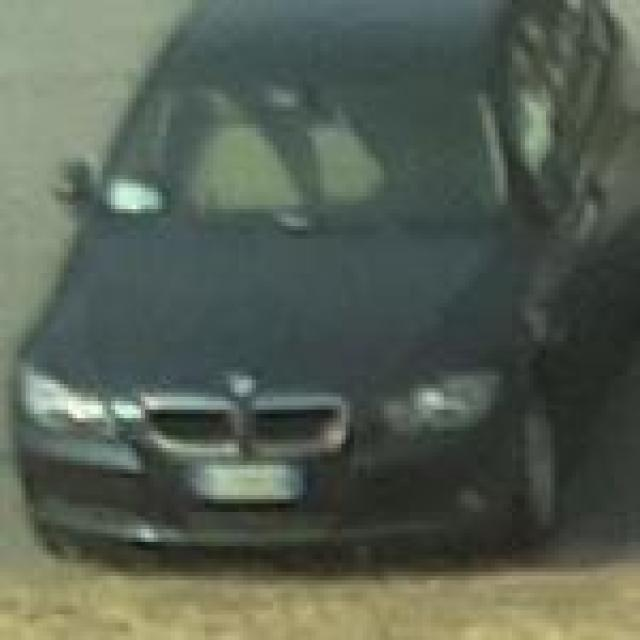cars-sUYr: (4, 0, 640, 593)
